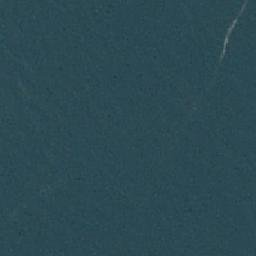debris: (219, 34, 230, 59), (227, 14, 242, 32)
